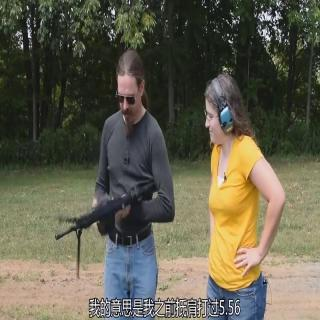gun: (48, 175, 168, 275)
